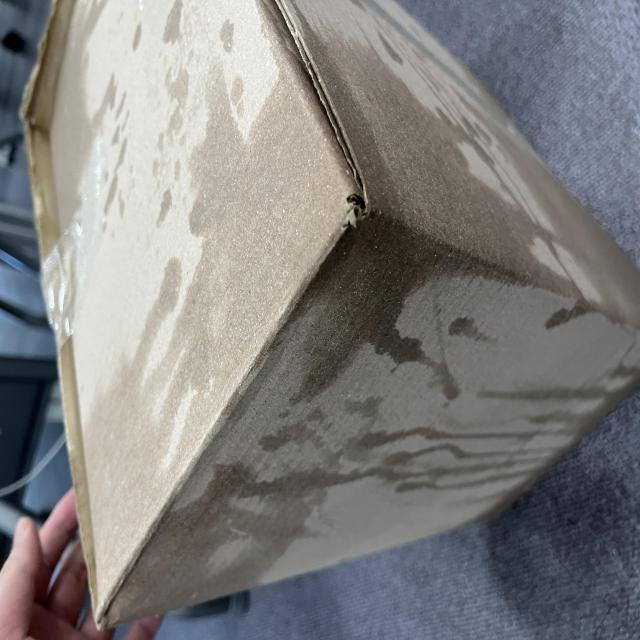wet: (30, 95, 480, 640)
